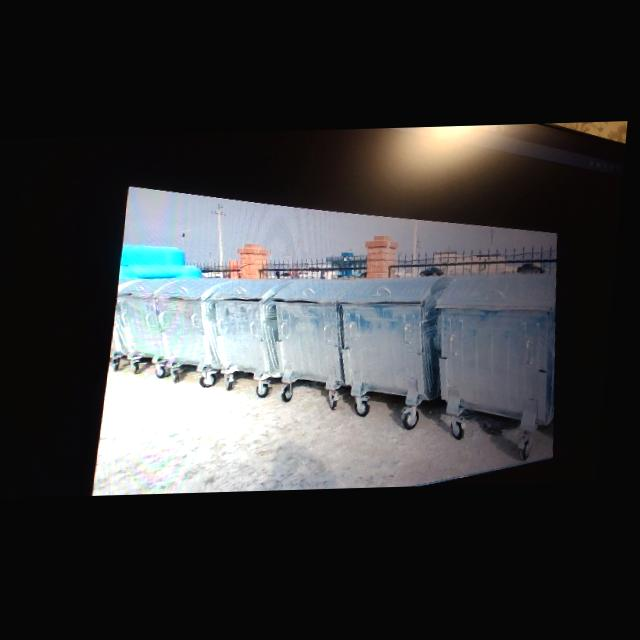Trash_Can_Closed: (433, 274, 573, 434), (336, 277, 453, 406), (272, 279, 359, 389), (211, 278, 293, 381), (156, 277, 236, 373), (118, 277, 188, 361)
